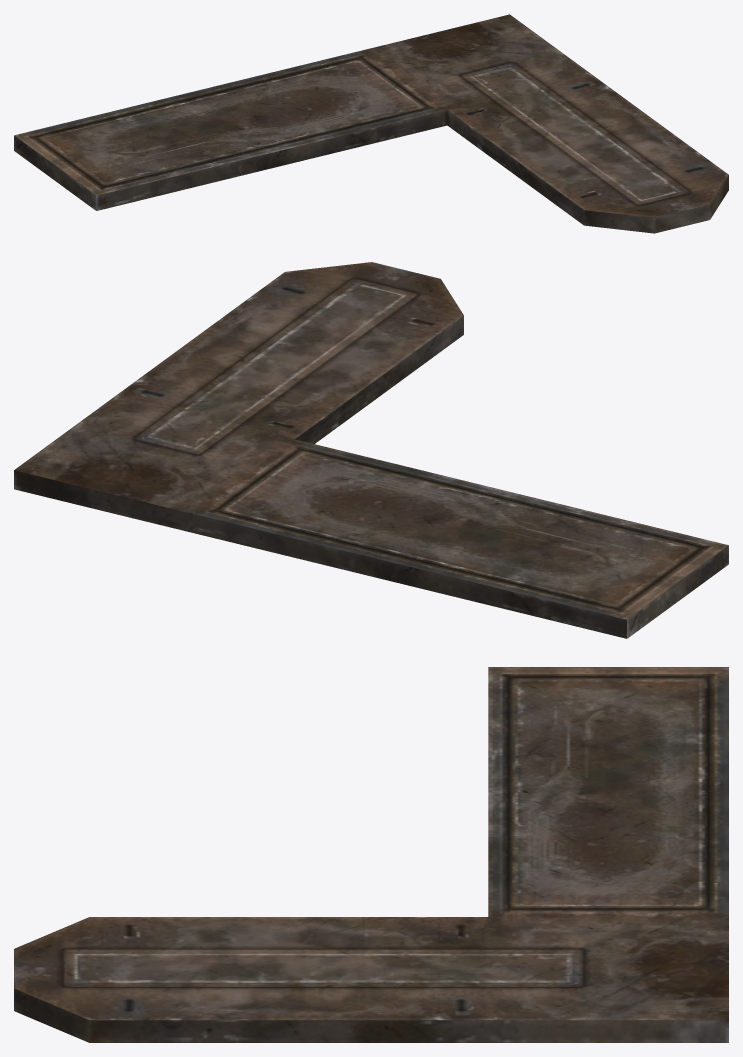
File: tau_airlock_floorframe.dae
The picture shows the model from 3 angles, top to bottom: view 1: azimuth 30°, elevation 25°; view 2: azimuth 150°, elevation 25°; view 3: azimuth 270°, elevation 25°; orthographic projection. The views are drawn at different scales.
Visible parts, largest first — view 1: Mesh; view 2: Mesh; view 3: Mesh.
Part boxes in pixels (x1,y1,x2,y2): Mesh: (14, 14, 728, 233); Mesh: (14, 262, 728, 638); Mesh: (14, 667, 728, 1042).
Size of the model in its own units: 3.65 by 0.1084 by 3.12.
